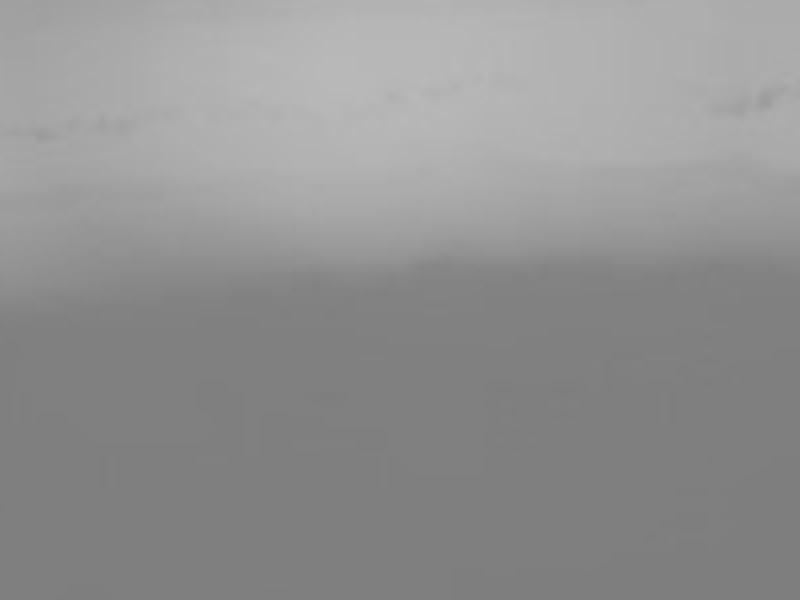defect: (757, 82, 782, 109)
